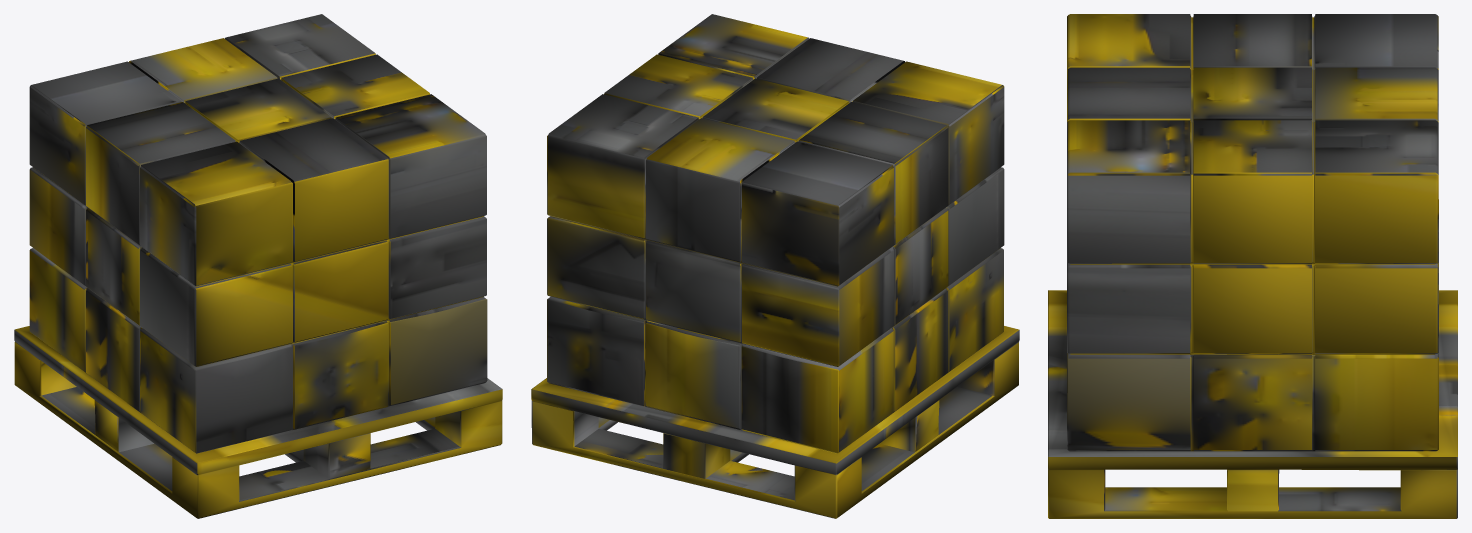
File: Pallet1.fbx
The picture shows the model from 3 angles, left to right: view 1: azimuth 30°, elevation 25°; view 2: azimuth 150°, elevation 25°; view 3: azimuth 270°, elevation 25°; orthographic projection. The views are drawn at different scales.
Visible parts, largest first — view 1: mesh_input; view 2: mesh_input; view 3: mesh_input.
Boxes of the visible parts, x1=… form: mesh_input: x1=14, y1=14, x2=502, y2=518; mesh_input: x1=531, y1=14, x2=1019, y2=518; mesh_input: x1=1048, y1=14, x2=1457, y2=518.
Size of the model in its own units: 183 by 175 by 190.
